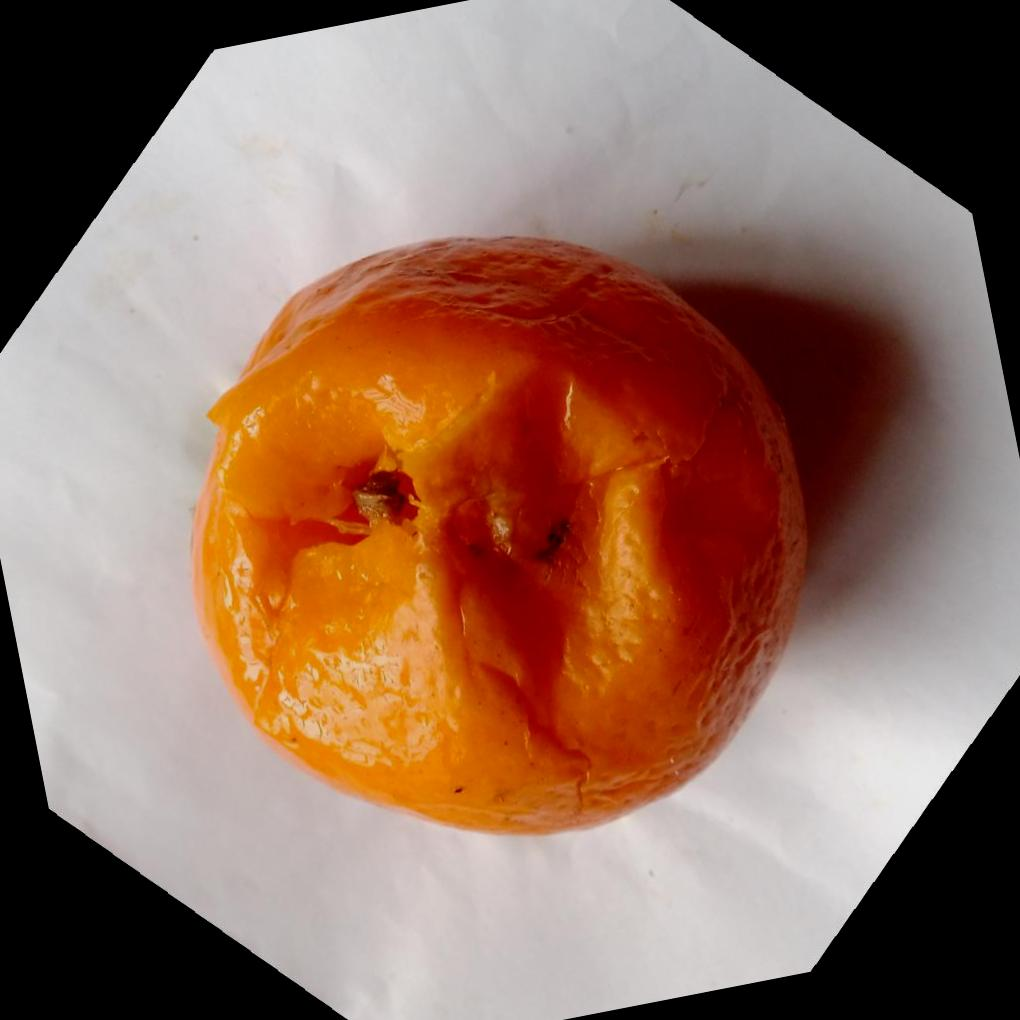FreshOrange: (190, 229, 817, 837)
